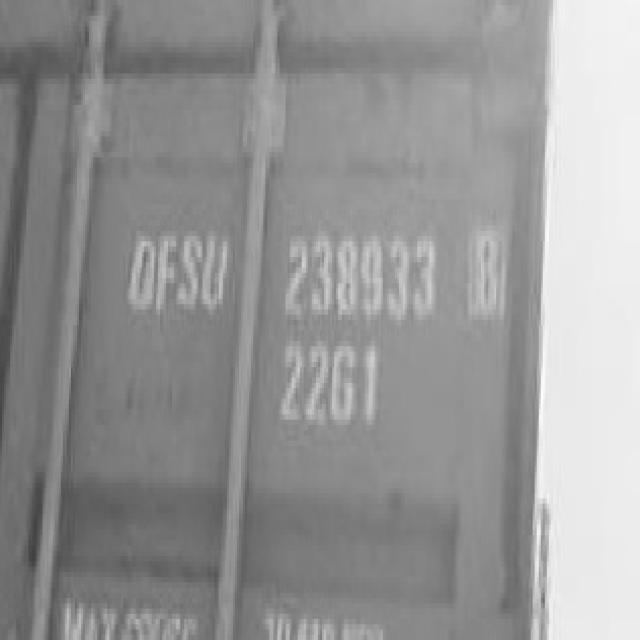dv: (462, 208, 512, 332)
owner: (120, 206, 238, 324)
serial: (281, 217, 446, 334)
size: (278, 330, 381, 446)
